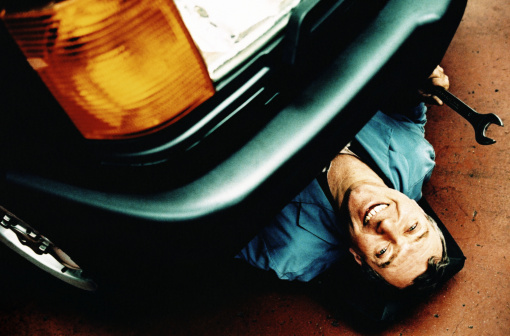deitado: (213, 62, 482, 336)
